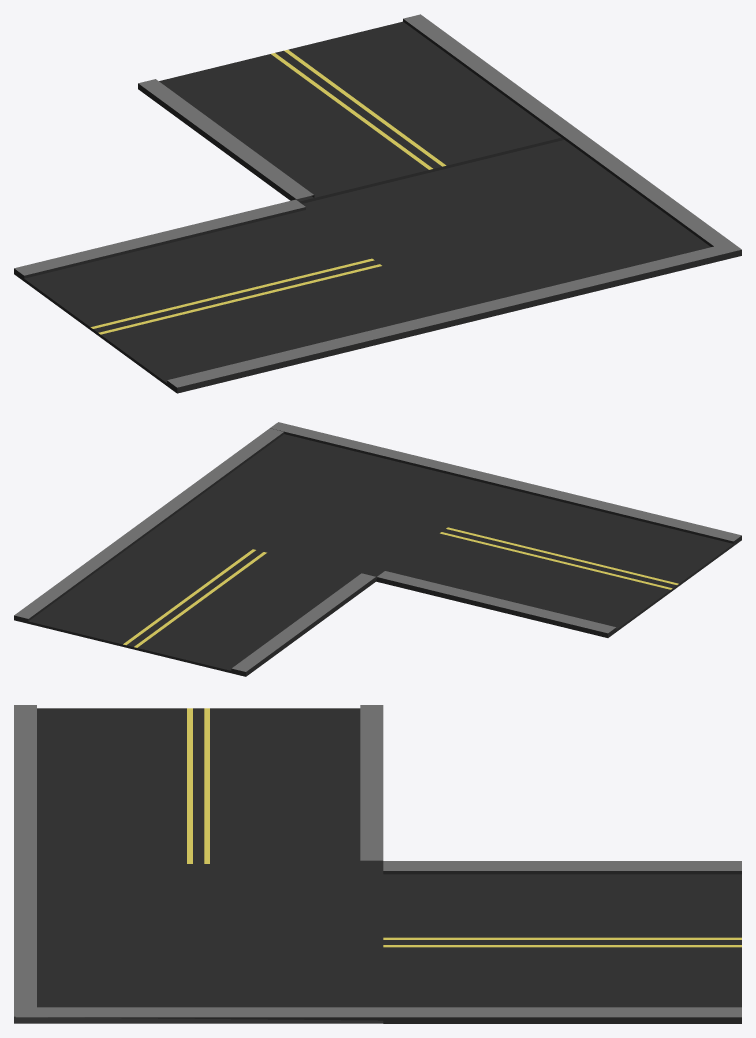
The picture shows the model from 3 angles, top to bottom: view 1: azimuth 30°, elevation 25°; view 2: azimuth 150°, elevation 25°; view 3: azimuth 270°, elevation 25°; orthographic projection. The views are drawn at different scales.
Parts seen in each view (by area): view 1: Cube.001, Cube; view 2: Cube.001, Cube; view 3: Cube.001, Cube.
Boxes of the visible parts, box(x1,y1,x2,y2) form: Cube.001: box(14, 137, 741, 393); Cube: box(138, 14, 740, 248); Cube.001: box(159, 422, 741, 637); Cube: box(14, 423, 375, 676); Cube.001: box(14, 705, 383, 1023); Cube: box(16, 861, 741, 1023).
Size of the model in its own units: 400 by 4.18 by 394.
